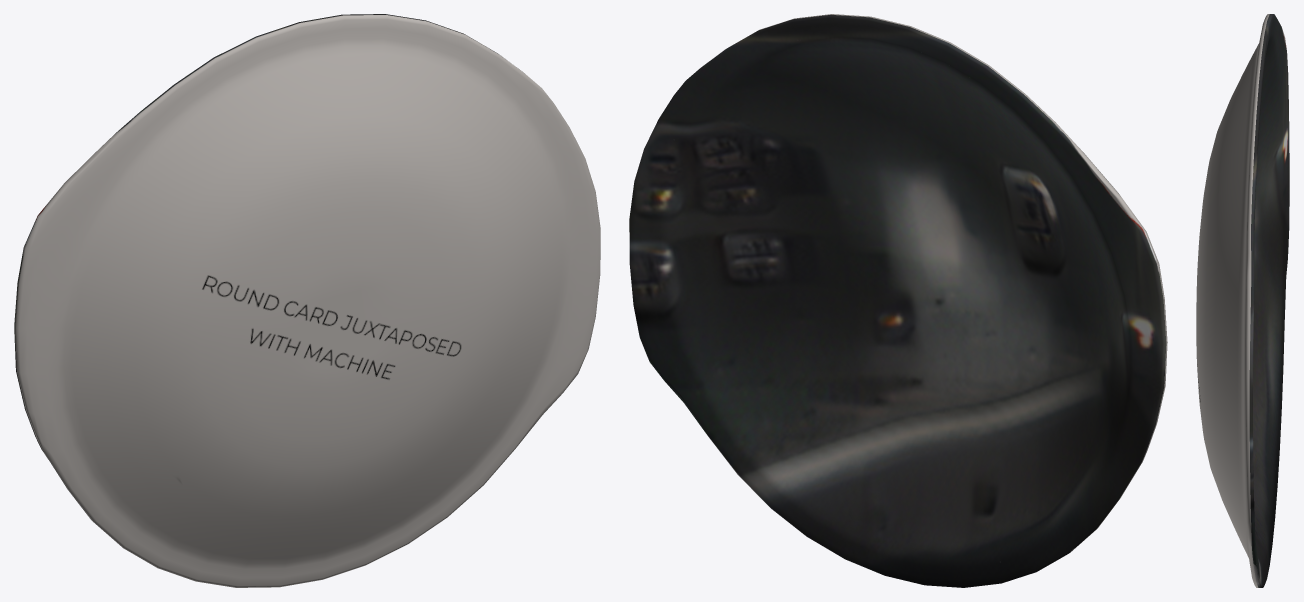
3 views of the same model, side by side, from view 1: azimuth 30°, elevation 25°; view 2: azimuth 150°, elevation 25°; view 3: azimuth 270°, elevation 25° (orthographic). The views are drawn at different scales.
Visible parts, largest first — view 1: bluewhitered39:_bluewhitered_39_remodel1 group; view 2: bluewhitered39:_bluewhitered_39_remodel1 group; view 3: bluewhitered39:_bluewhitered_39_remodel1 group.
Boxes of the visible parts, x1,y1,x2,y2 form: bluewhitered39:_bluewhitered_39_remodel1 group: (14,14,600,587); bluewhitered39:_bluewhitered_39_remodel1 group: (629,14,1167,587); bluewhitered39:_bluewhitered_39_remodel1 group: (1196,14,1289,587).
Bounding box in the file's own units: 8.8 × 8.37 × 1.36.
1 material, 1 textured.
